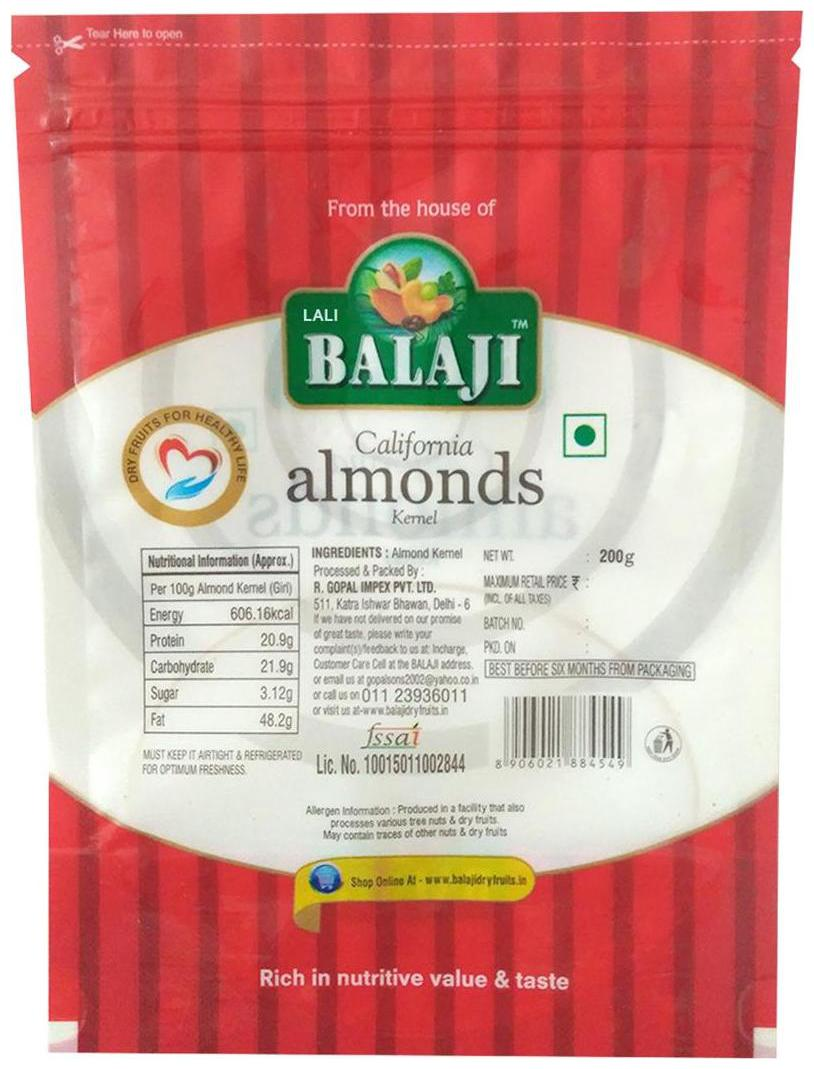fssai: (359, 721, 423, 749)
